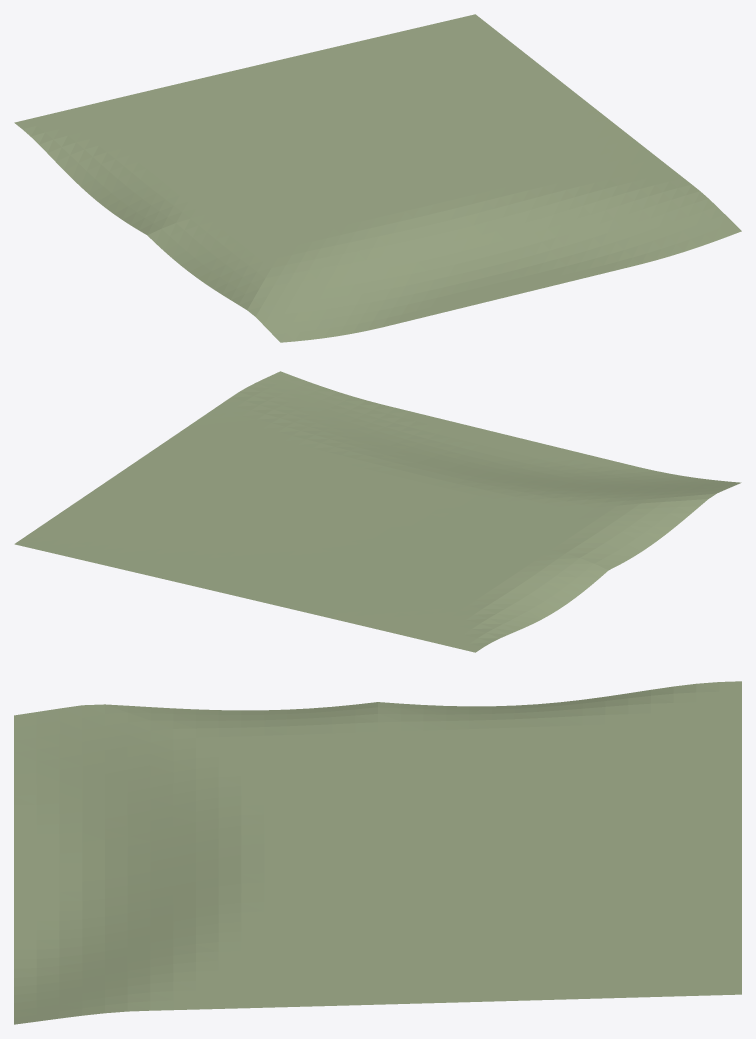
File: gardens-4-0.glb
The picture shows the model from 3 angles, top to bottom: view 1: azimuth 30°, elevation 25°; view 2: azimuth 150°, elevation 25°; view 3: azimuth 270°, elevation 25°; orthographic projection. The views are drawn at different scales.
Visible parts, largest first — view 1: gardens-4-0; view 2: gardens-4-0; view 3: gardens-4-0.
Boxes of the visible parts, x1=… form: gardens-4-0: x1=14, y1=14, x2=741, y2=342; gardens-4-0: x1=14, y1=371, x2=741, y2=652; gardens-4-0: x1=14, y1=681, x2=741, y2=1024.
Size of the model in its own units: 256 by 18.34 by 256.
